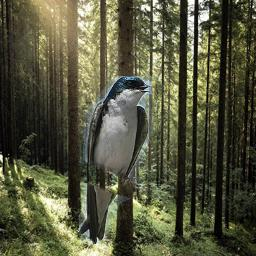Swallow: (79, 76, 152, 244)
